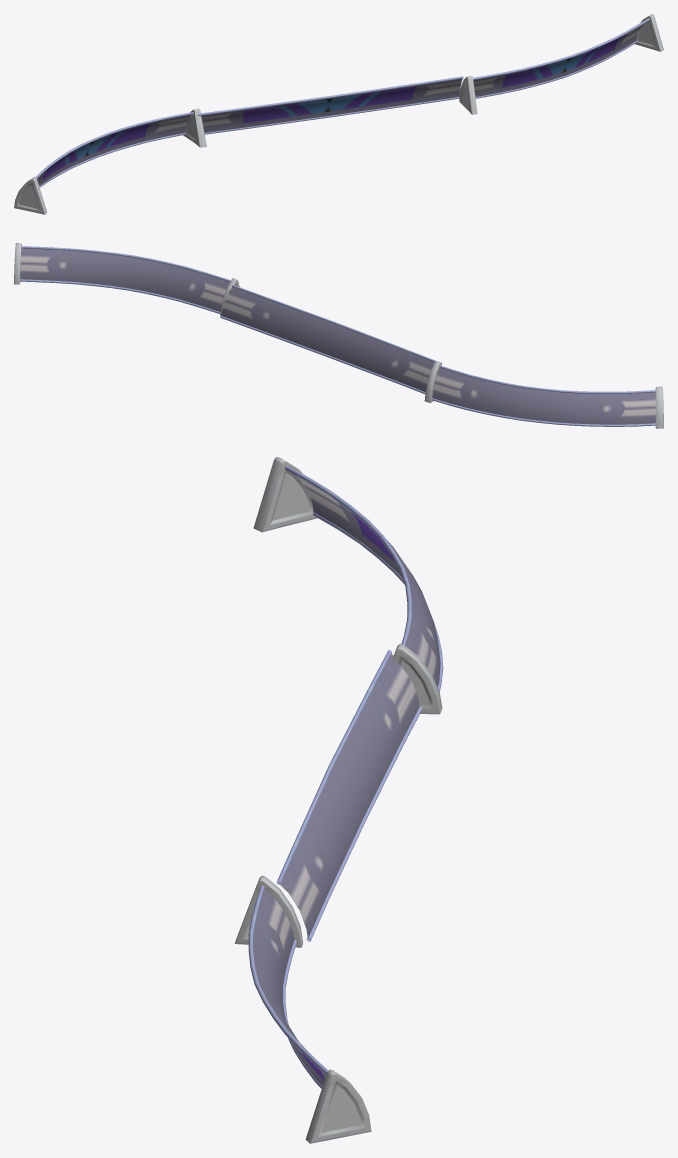
Rendered from pref_sm_beach_winter_crowd_barrierL_03_lv3.fbx.
The picture shows the model from 3 angles, top to bottom: view 1: azimuth 30°, elevation 25°; view 2: azimuth 150°, elevation 25°; view 3: azimuth 270°, elevation 25°; orthographic projection. The views are drawn at different scales.
Visible parts, largest first — view 1: pref_sm_beach_winter_crowd_barrierL_03_lv3; view 2: pref_sm_beach_winter_crowd_barrierL_03_lv3; view 3: pref_sm_beach_winter_crowd_barrierL_03_lv3.
Boxes of the visible parts, bbox=[...] form: pref_sm_beach_winter_crowd_barrierL_03_lv3: bbox=[14, 14, 663, 214]; pref_sm_beach_winter_crowd_barrierL_03_lv3: bbox=[14, 243, 663, 428]; pref_sm_beach_winter_crowd_barrierL_03_lv3: bbox=[235, 457, 443, 1143].
Bounding box in the file's own units: 25.47 × 1.23 × 3.56.
